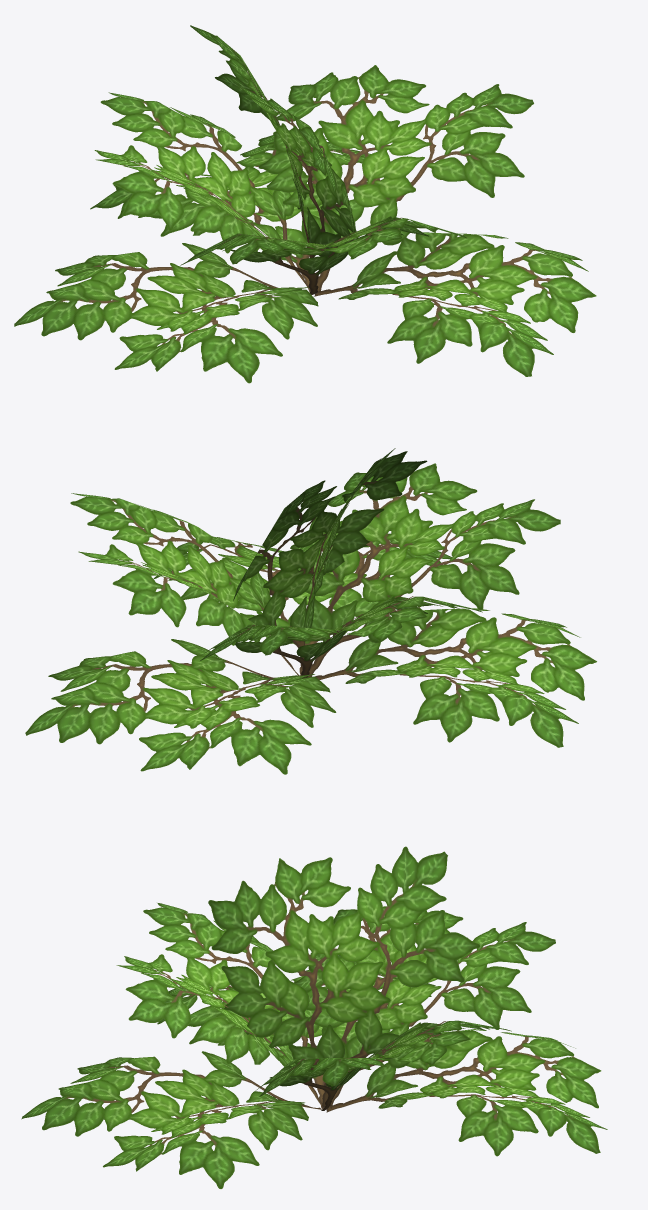
File: Ctn_GroundBush_01_v01.FBX
3 views of the same model, one above another, from view 1: azimuth 30°, elevation 25°; view 2: azimuth 150°, elevation 25°; view 3: azimuth 270°, elevation 25° (orthographic). The views are drawn at different scales.
Visible parts, largest first — view 1: Ctn_GroundBush_v01_01; view 2: Ctn_GroundBush_v01_01; view 3: Ctn_GroundBush_v01_01.
Part boxes in pixels (x1,y1,x2,y2): Ctn_GroundBush_v01_01: (14,25,596,383); Ctn_GroundBush_v01_01: (25,448,596,774); Ctn_GroundBush_v01_01: (21,846,607,1188).
Bounding box in the file's own units: 87.9 × 42.7 × 92.95.
